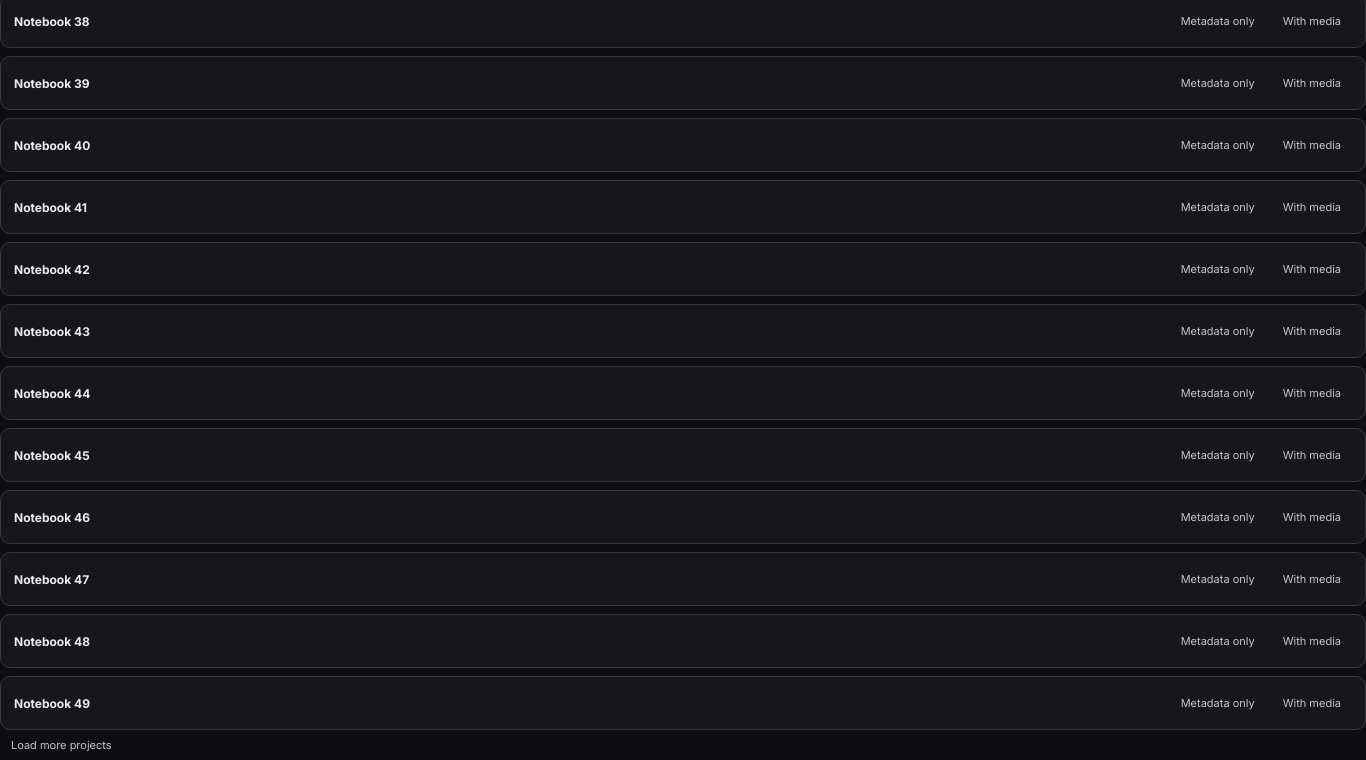
Scenario: keeps exported rows available and retries a failed next page
(page scrolled)
Expected: the text "Notebook 49" is shown, x1=14 y1=696 x2=90 y2=710
Step 1. Click the button "Load more projects" → (61, 745), box x1=0 y1=730 x2=123 y2=759
(page scrolled)
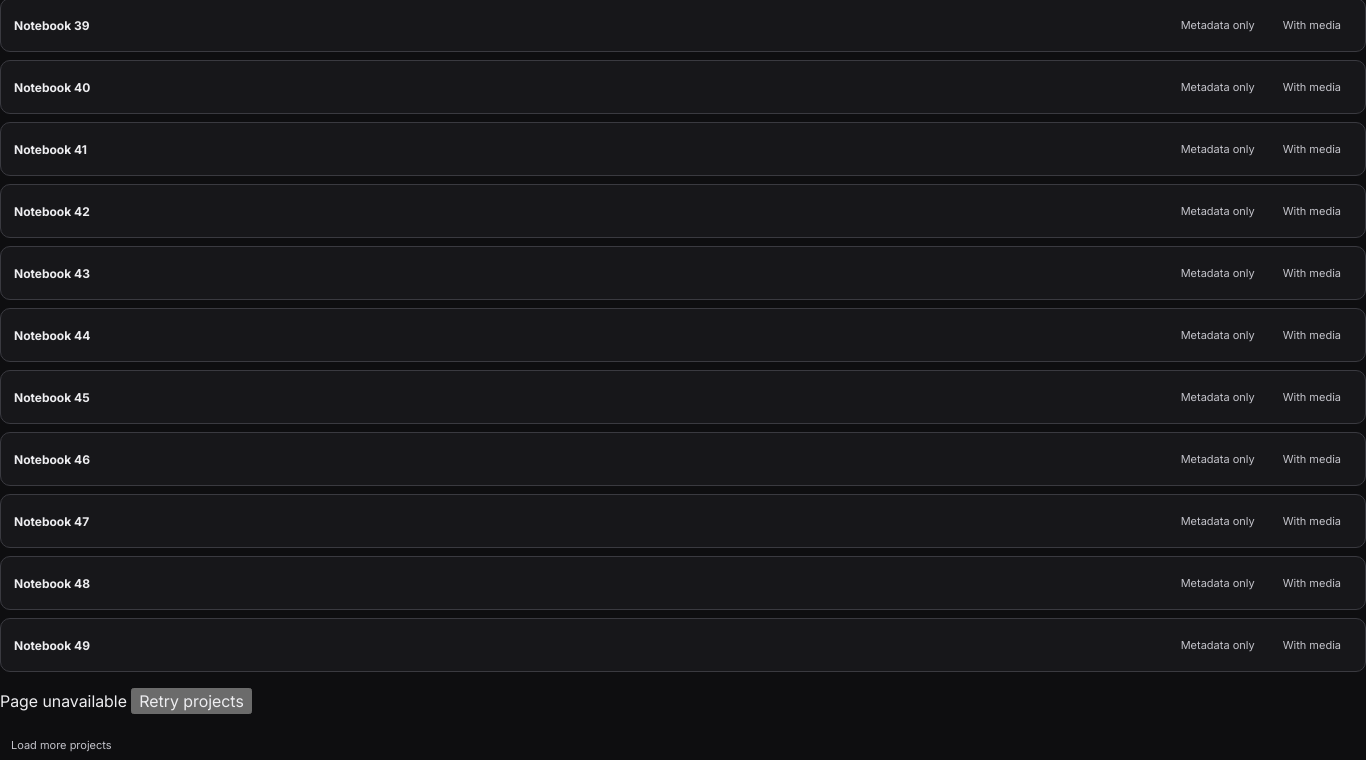
Result: the text "Page unavailable" is shown at x1=0 y1=691 x2=127 y2=711
Step 2. Click the button "Retry projects" → (192, 701), box x1=131 y1=688 x2=252 y2=714
(page scrolled)
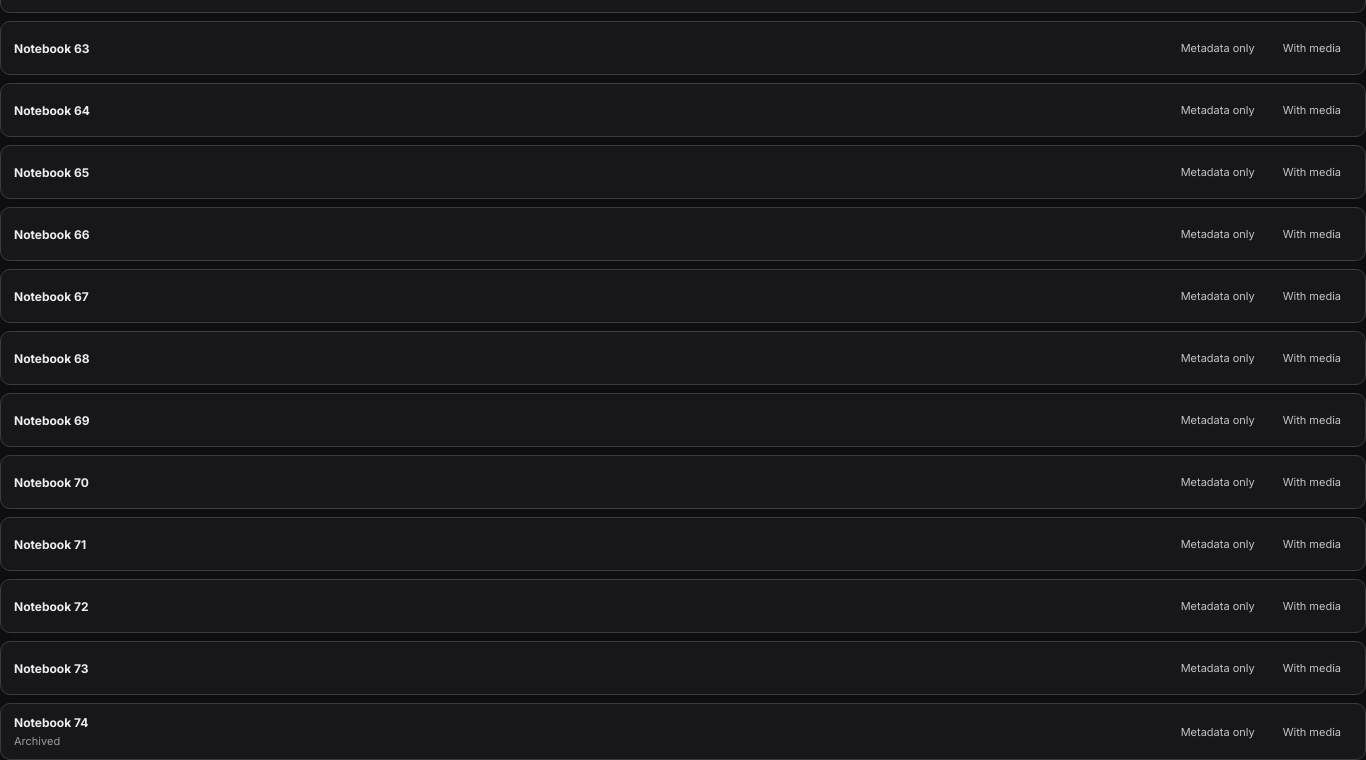
Result: the text "Notebook 74" is shown at x1=14 y1=715 x2=88 y2=730
